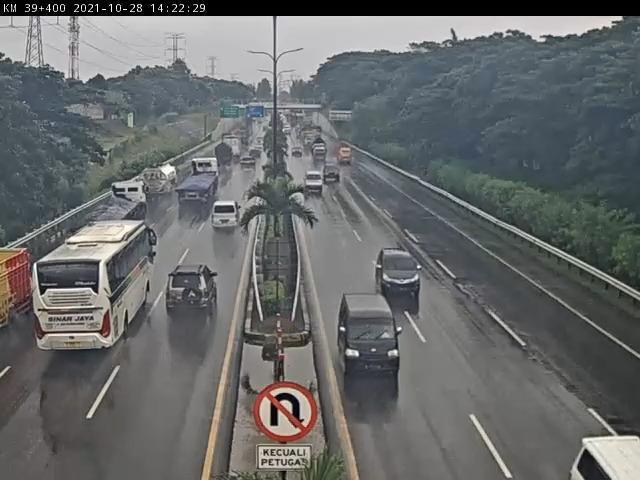bus: (32, 220, 156, 348)
car: (334, 292, 402, 374), (168, 263, 220, 316), (377, 248, 426, 302), (211, 200, 240, 230), (303, 171, 325, 195), (323, 164, 343, 187)
truck: (76, 181, 151, 233), (2, 244, 37, 327), (177, 155, 225, 209), (139, 162, 180, 198)
